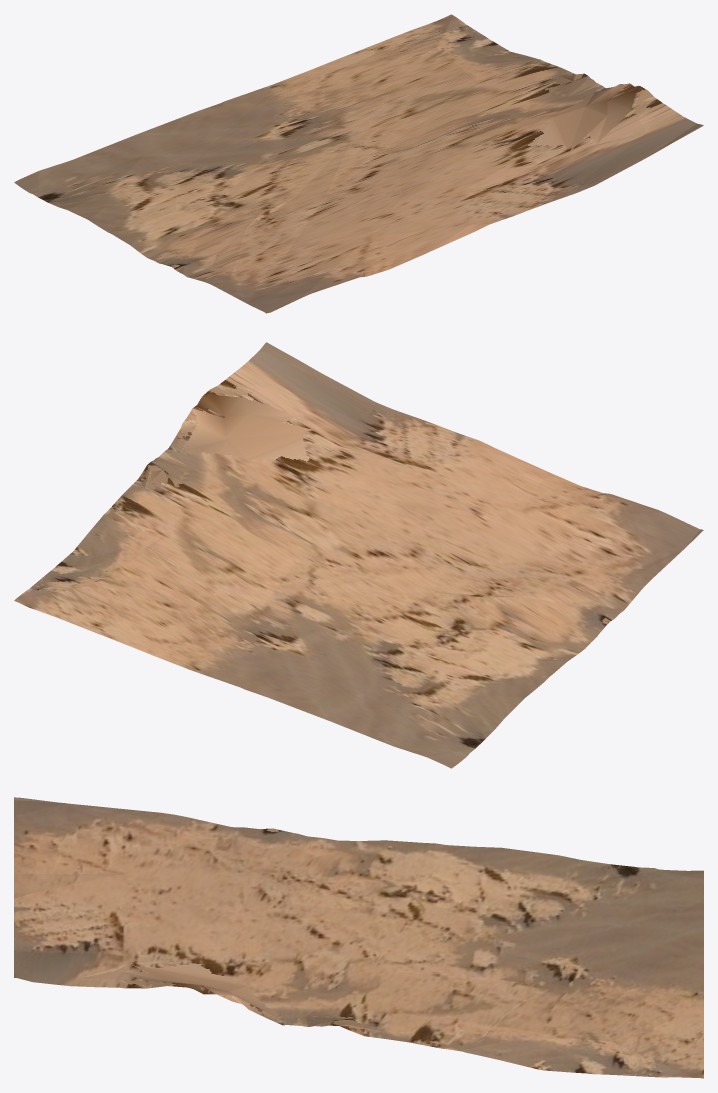
The picture shows the model from 3 angles, top to bottom: view 1: azimuth 30°, elevation 25°; view 2: azimuth 150°, elevation 25°; view 3: azimuth 270°, elevation 25°; orthographic projection. The views are drawn at different scales.
Bounding box in the file's own units: 1.04 × 0.308 × 1.04.
Materials: 3 (3 with a texture image).
